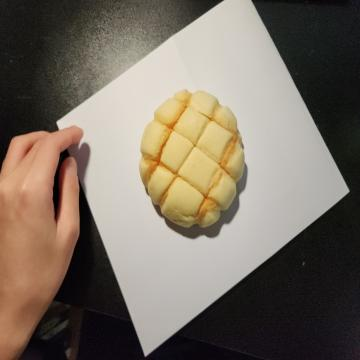melon_bread: (138, 89, 246, 232)
